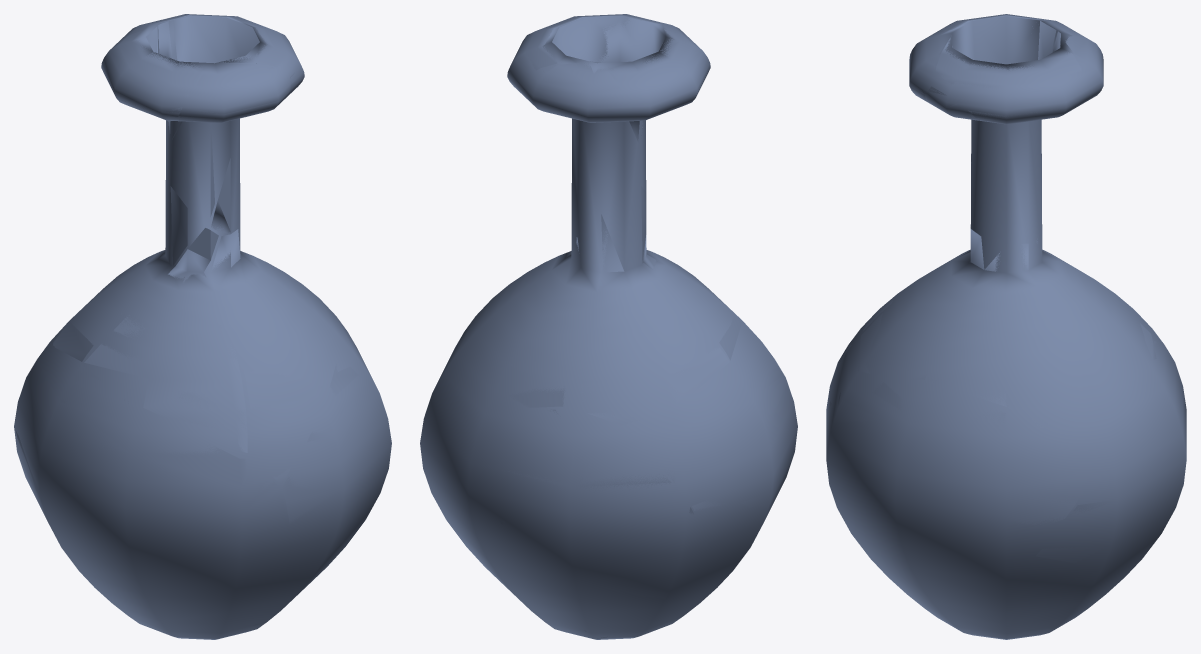
The model's file is breaking.dae.
3 renders of one model, left to right at view 1: azimuth 30°, elevation 25°; view 2: azimuth 150°, elevation 25°; view 3: azimuth 270°, elevation 25°, orthographic.
Visible parts, largest first — view 1: Pot_low, Pot_low_cell.012, Pot_low_cell.013, Pot_low_cell.003, Pot_low_cell, Pot_low_cell.009, Pot_low_cell.008, Pot_low_cell.007, Pot_low_cell.006, Pot_low_cell.015, Pot_low_cell.004; view 2: Pot_low, Pot_low_cell.003, Pot_low_cell.006, Pot_low_cell.012, Pot_low_cell.008, Pot_low_cell.001, Pot_low_cell.004, Pot_low_cell.009, Pot_low_cell.013; view 3: Pot_low, Pot_low_cell, Pot_low_cell.003, Pot_low_cell.009, Pot_low_cell.014, Pot_low_cell.008, Pot_low_cell.004.
Part boxes in pixels (x1,y1,x2,y2): Pot_low: (14,14,391,639); Pot_low_cell.012: (15,365,286,580); Pot_low_cell.013: (84,228,247,452); Pot_low_cell.003: (173,14,292,67); Pot_low_cell: (282,316,391,523); Pot_low_cell.009: (211,229,341,483); Pot_low_cell.008: (116,26,203,137); Pot_low_cell.007: (172,65,289,216); Pot_low_cell.006: (53,186,187,361); Pot_low_cell.015: (211,158,230,232); Pot_low_cell.004: (128,14,186,58); Pot_low: (420,14,797,639); Pot_low_cell.003: (524,14,636,70); Pot_low_cell.006: (581,186,729,425); Pot_low_cell.012: (629,358,797,516); Pot_low_cell.008: (610,29,695,141); Pot_low_cell.001: (508,409,708,638); Pot_low_cell.004: (543,61,620,88); Pot_low_cell.009: (457,237,578,407); Pot_low_cell.013: (643,235,742,360); Pot_low: (826,14,1186,639); Pot_low_cell: (826,381,1078,530); Pot_low_cell.003: (935,37,1081,121); Pot_low_cell.009: (829,229,1156,428); Pot_low_cell.014: (925,499,1161,639); Pot_low_cell.008: (941,14,1069,59); Pot_low_cell.004: (1053,30,1089,62).
Bounding box in the file's own units: 0.3179 × 0.302 × 0.5317.
